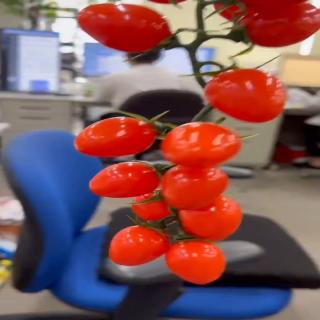tomato: (76, 0, 176, 52), (202, 66, 288, 122), (162, 122, 245, 169), (71, 117, 156, 160), (241, 0, 320, 44), (179, 192, 244, 243), (159, 164, 228, 210), (164, 237, 226, 286), (86, 161, 161, 199), (107, 225, 173, 268), (131, 187, 185, 220)
